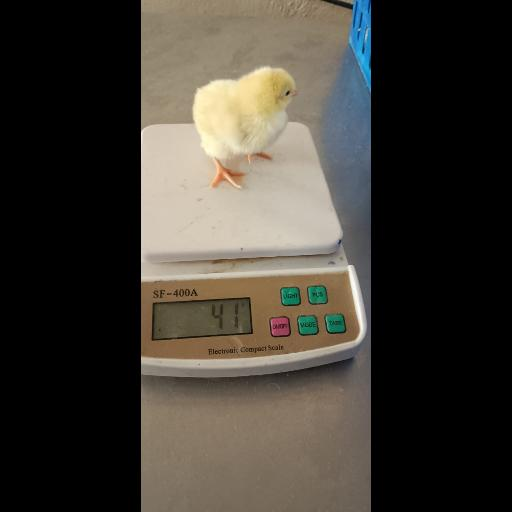chick: (194, 67, 301, 190)
